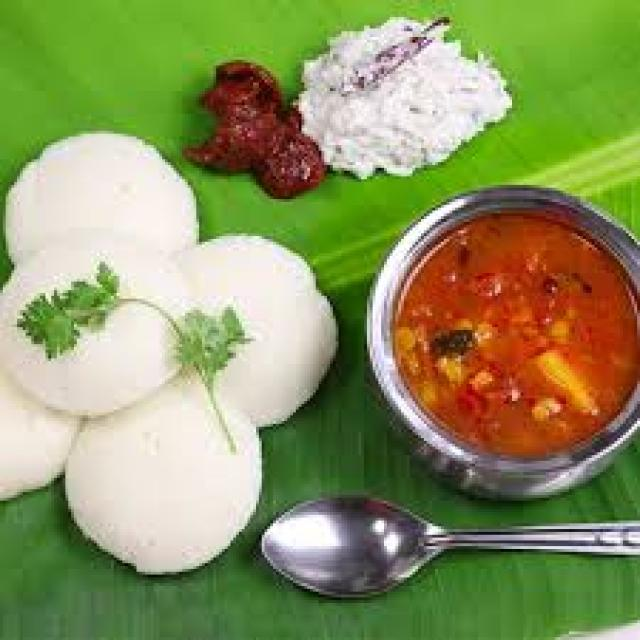IDLI: (0, 230, 253, 412), (65, 373, 256, 572), (179, 233, 336, 424), (11, 134, 196, 259), (0, 367, 77, 498)
